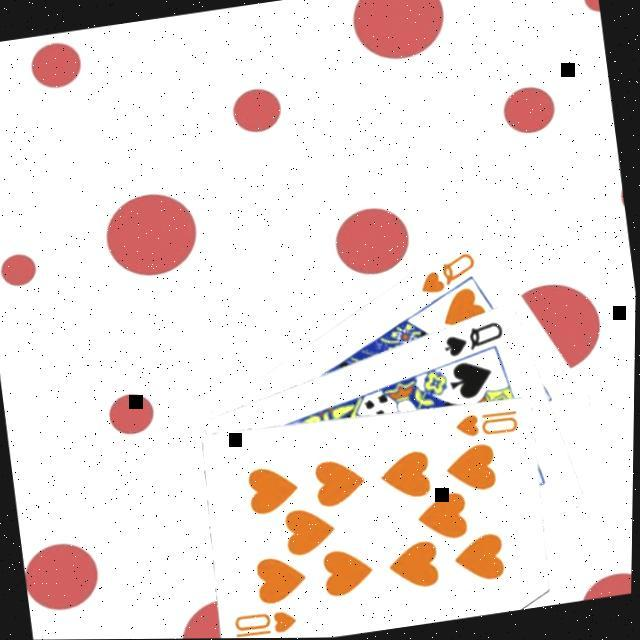10H: (452, 403, 526, 442), (232, 602, 305, 638)
QH: (414, 246, 484, 298)
QS: (439, 315, 511, 360)
